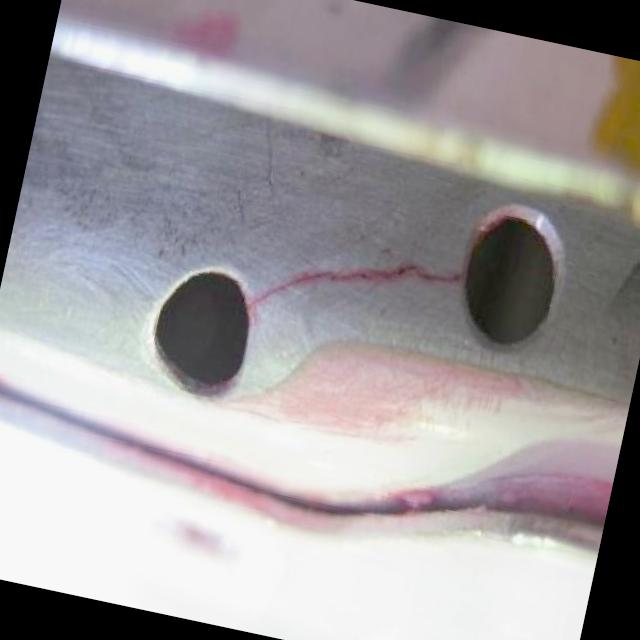crack: (339, 256, 408, 290), (286, 262, 332, 292), (408, 264, 464, 288), (252, 282, 290, 312)
